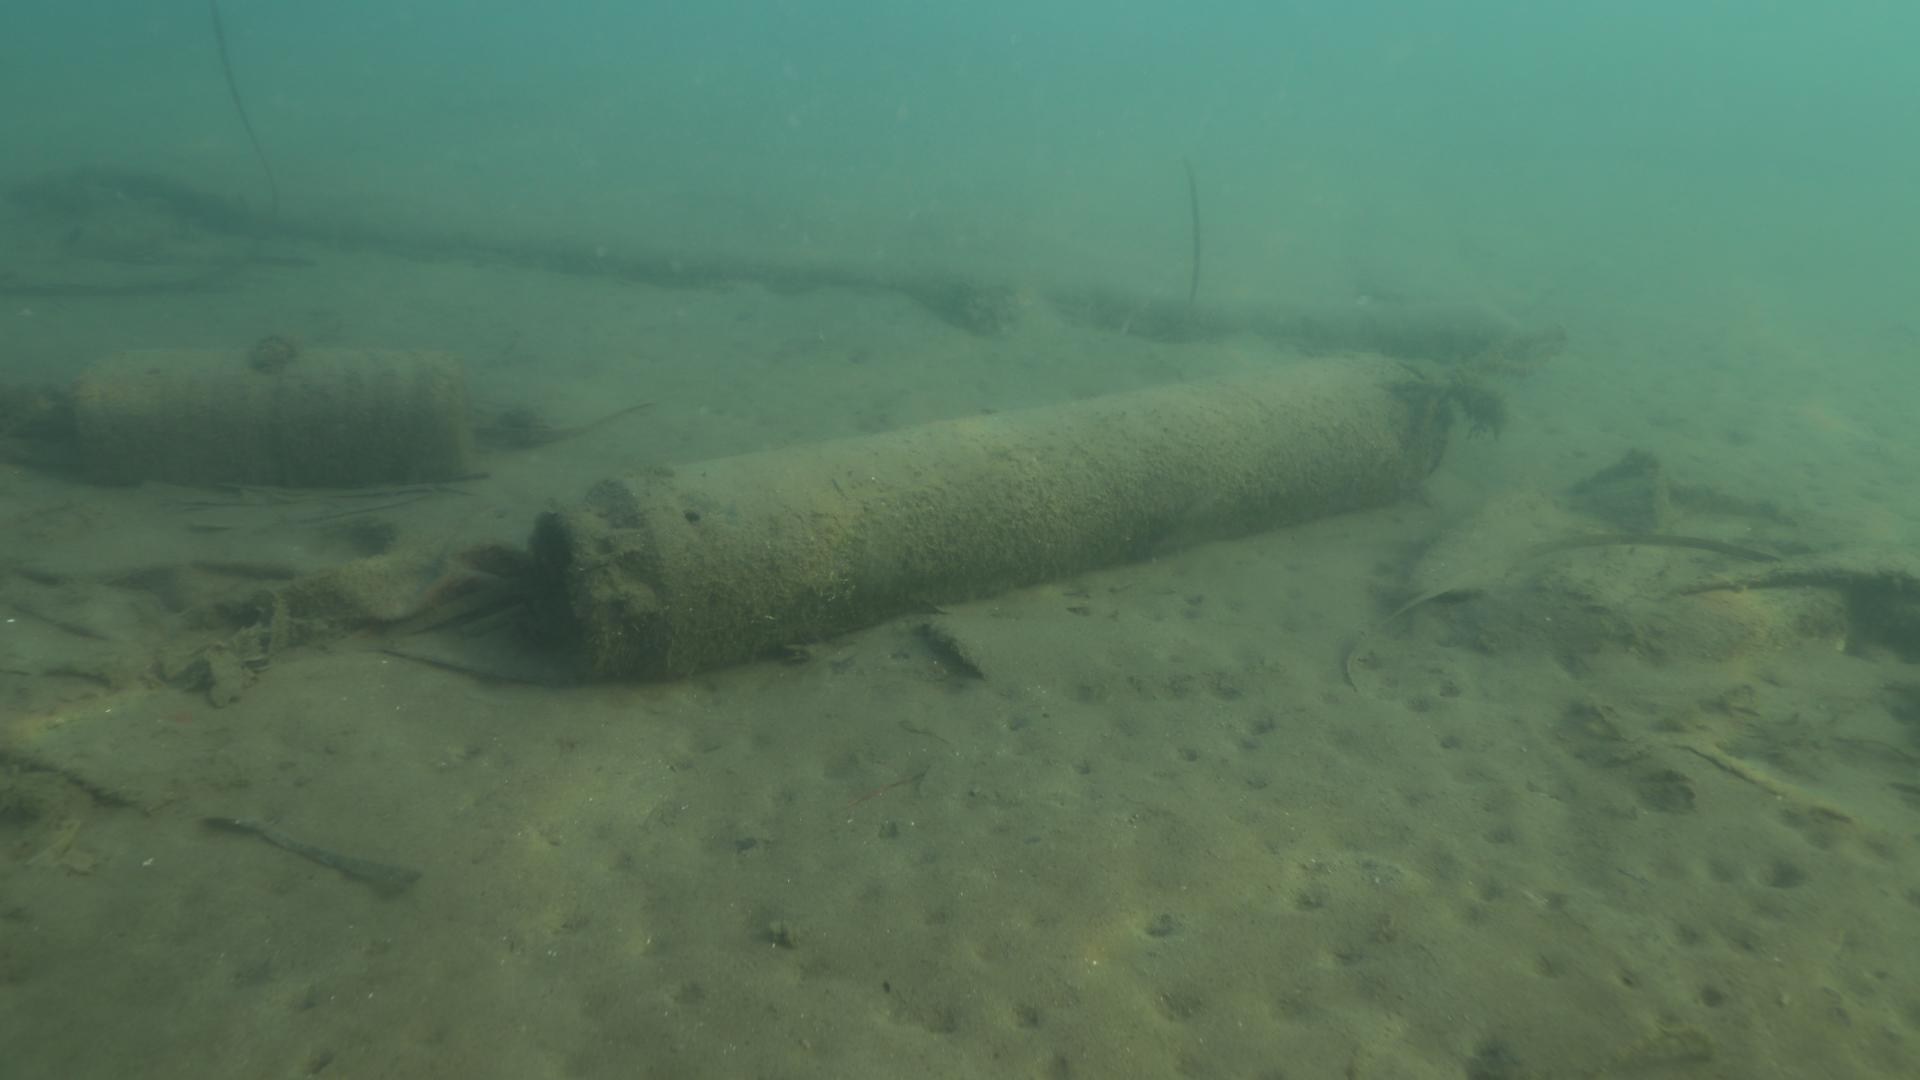eel fish trap: (530, 349, 1447, 688)
